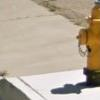Hydrant: (71, 2, 100, 86)
